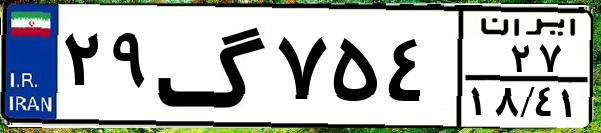1: (560, 70, 590, 125), (470, 70, 495, 125)
2: (57, 26, 110, 100), (508, 27, 537, 80)
4: (385, 28, 445, 110), (535, 70, 560, 125)
5: (330, 28, 385, 110)
7: (270, 28, 330, 110), (537, 27, 568, 80)
8: (495, 70, 520, 125)
9: (110, 28, 156, 98)
گ: (156, 12, 270, 120)
